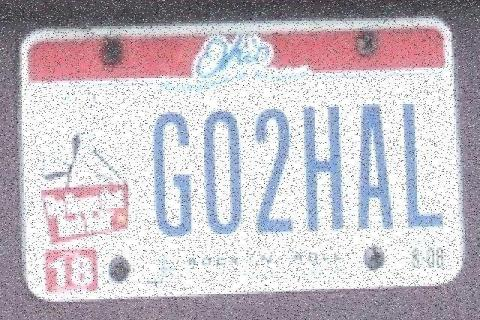LicensePlate: (19, 20, 447, 296)
